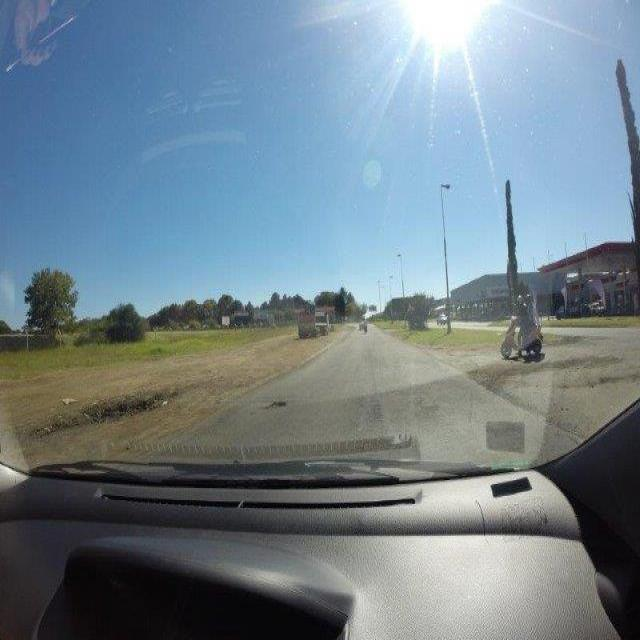lubang: (261, 396, 290, 413)
